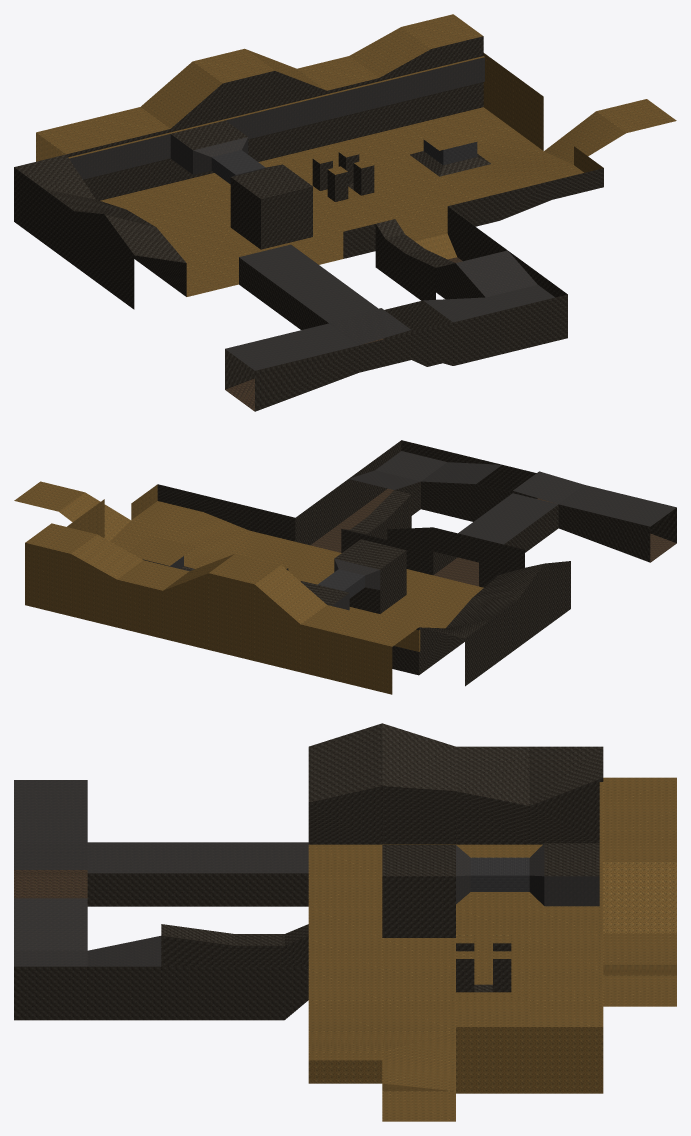
Rendered from test_lighting.obj.
3 views of the same model, one above another, from view 1: azimuth 30°, elevation 25°; view 2: azimuth 150°, elevation 25°; view 3: azimuth 270°, elevation 25° (orthographic). The views are drawn at different scales.
Visible parts, largest first — view 1: test_lighting; view 2: test_lighting; view 3: test_lighting.
Boxes of the visible parts, x1,y1,x2,y2 form: test_lighting: [14, 14, 676, 411]; test_lighting: [14, 440, 676, 694]; test_lighting: [14, 723, 676, 1121].
Size of the model in its own units: 110 by 19 by 90.
Materials: 7 (7 with a texture image).
